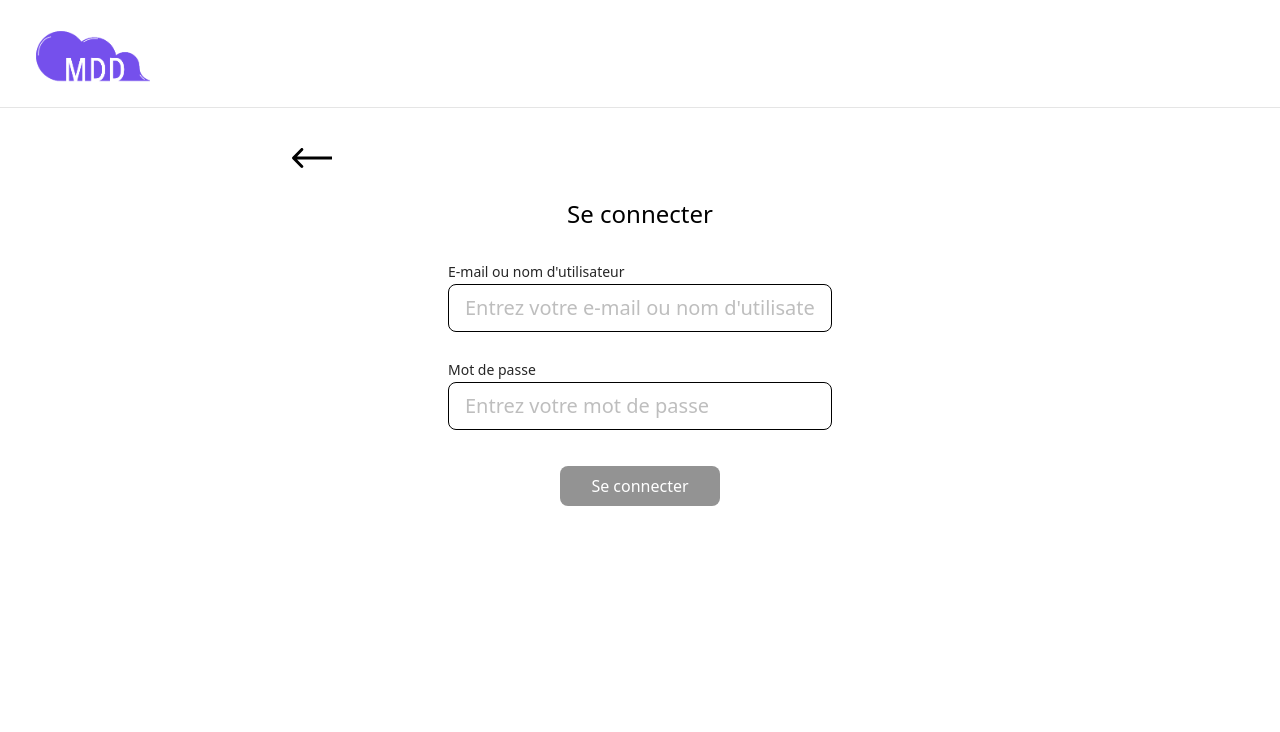
Test: Login Flow › should successfully login and redirect to articles
Step 1. Type "testuser" into the field labelled "E-mail ou nom d'utilisateur" → x=640, y=308, box [448,284,832,332]
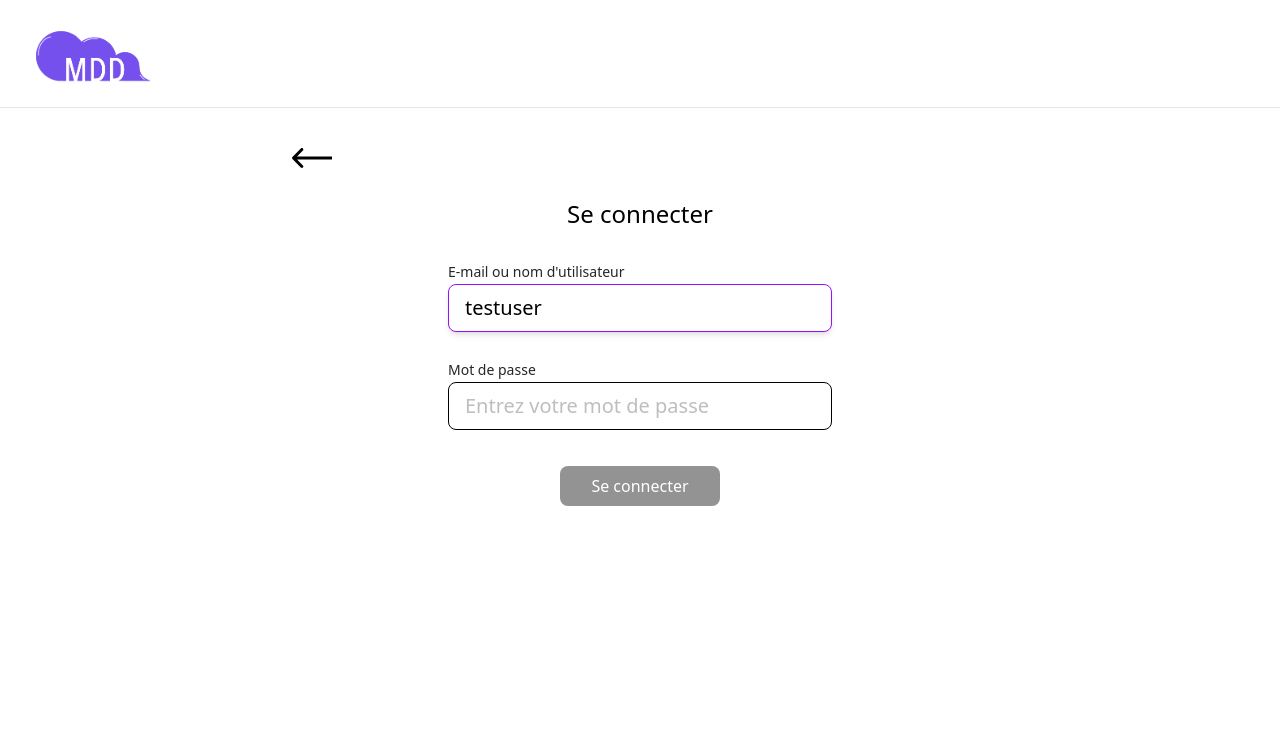
Step 2. Type "password123" into the password field labelled "Mot de passe" → x=640, y=406, box [448,382,832,430]
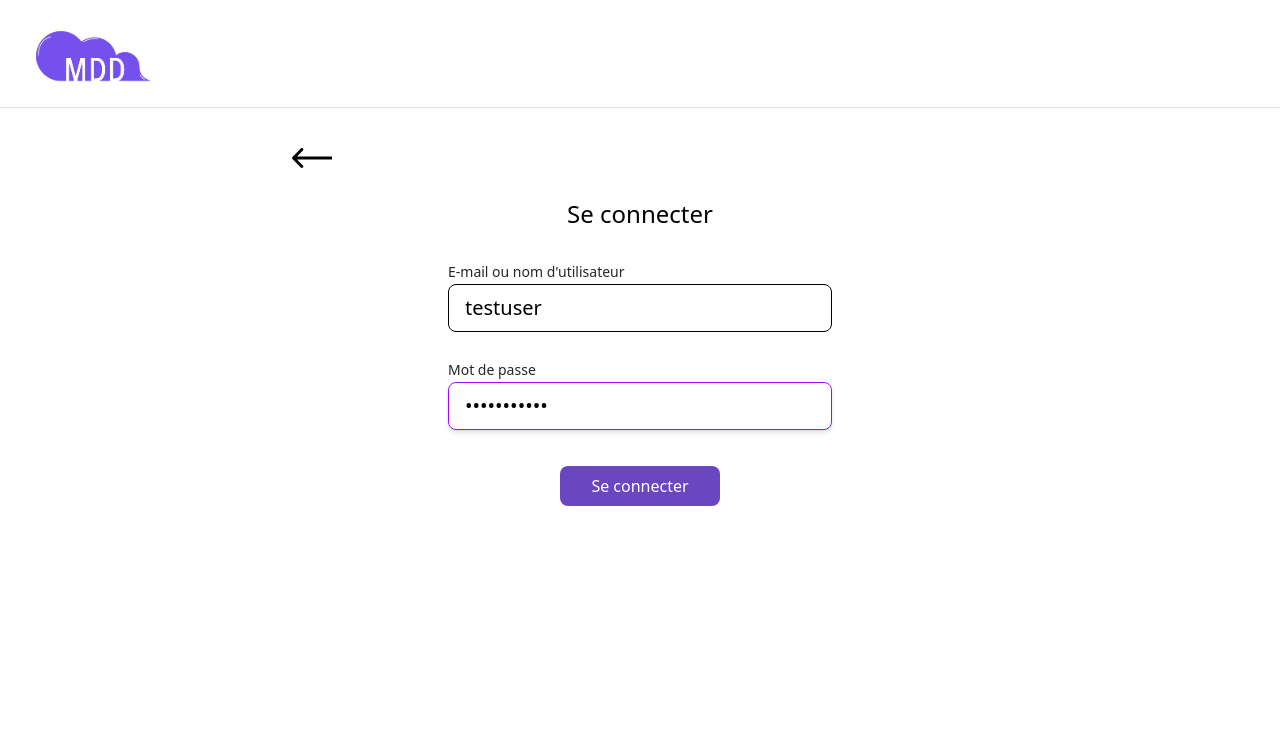
Step 3. Click the submit button → x=640, y=486, box [560,466,720,506]
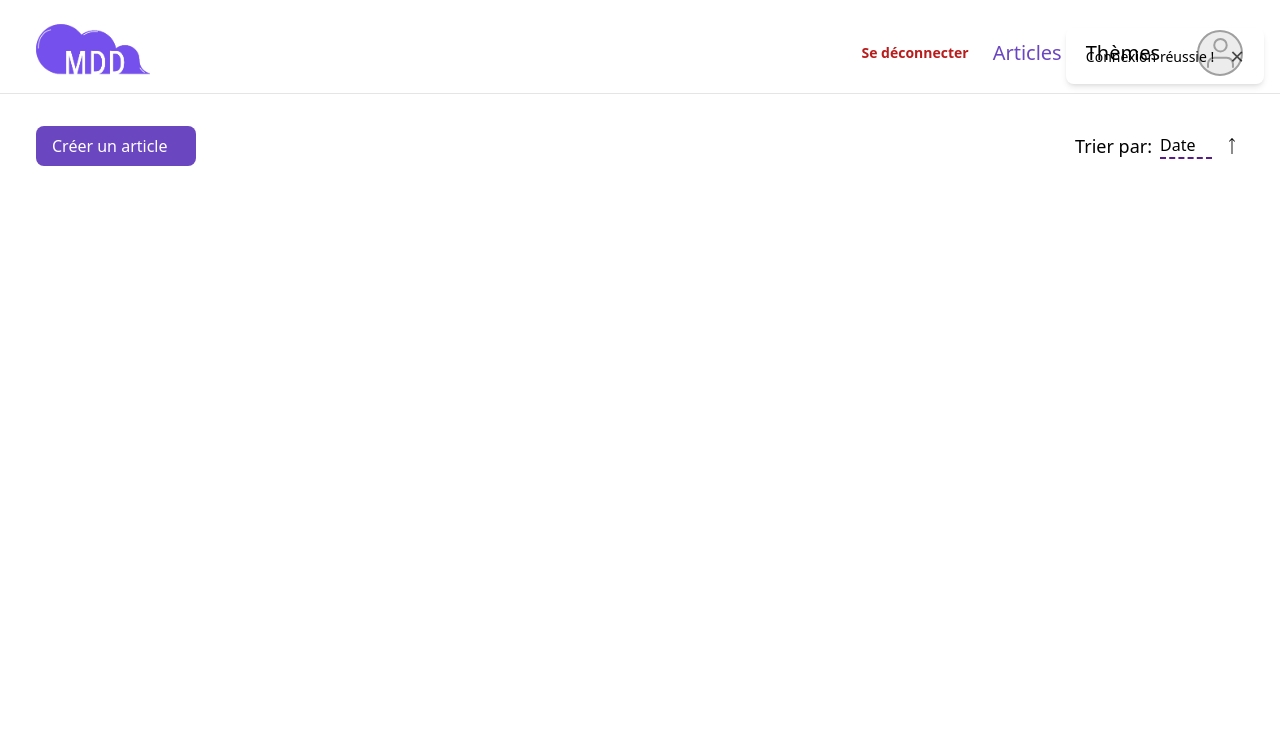
Result: the navigation bar is shown at [861,39,1160,66]
